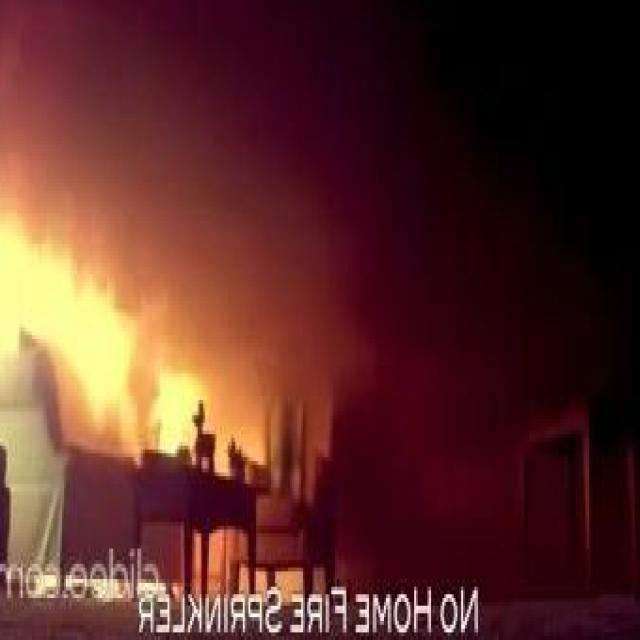smoke: (0, 214, 141, 422), (149, 358, 211, 450)
